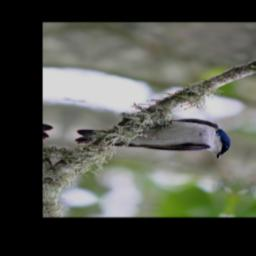Swallow: (70, 103, 240, 165)
